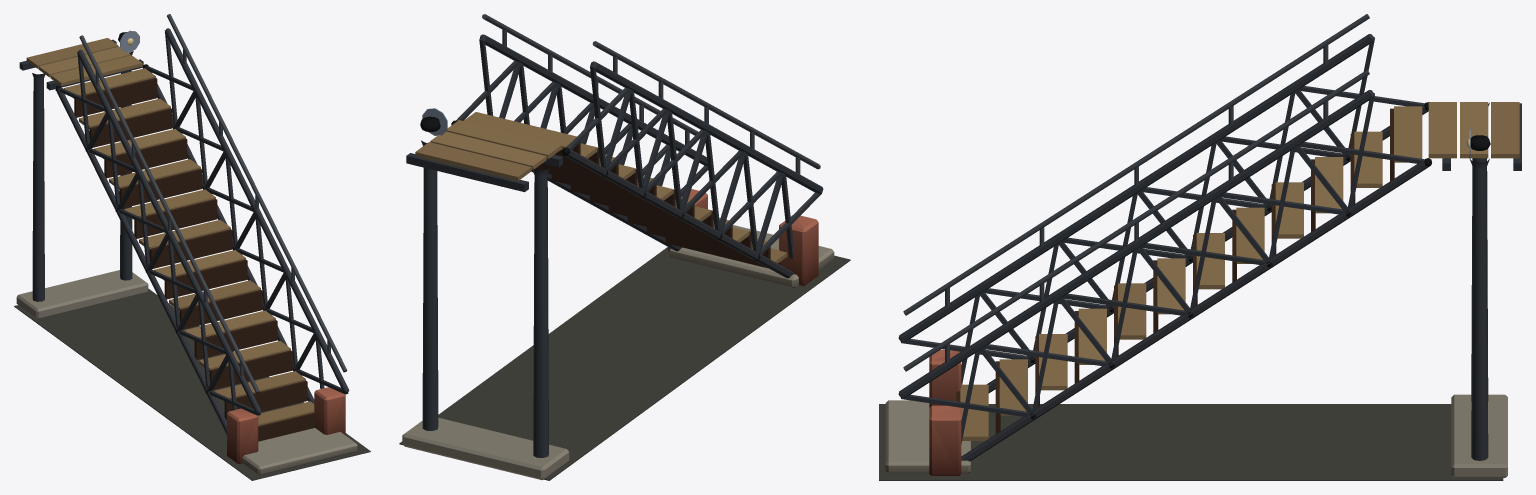
Rendered from footbridge-stairs.glb.
3 renders of one model, left to right at view 1: azimuth 30°, elevation 25°; view 2: azimuth 150°, elevation 25°; view 3: azimuth 270°, elevation 25°, orthographic. The views are drawn at different scales.
Visible parts, largest first — view 1: footbridge_stairs; view 2: footbridge_stairs; view 3: footbridge_stairs.
Part boxes in pixels (bbox=[...]): footbridge_stairs: bbox=[14, 14, 370, 480]; footbridge_stairs: bbox=[399, 14, 850, 480]; footbridge_stairs: bbox=[879, 14, 1521, 480].
Size of the model in its own units: 1.9 by 4.68 by 6.8.
